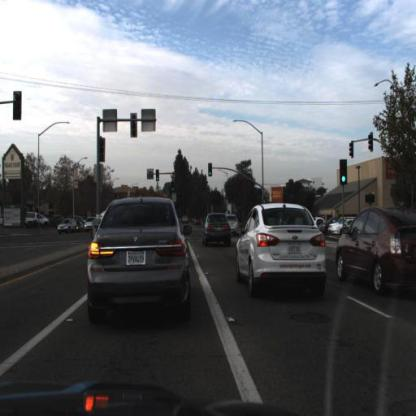car: (89, 200, 190, 315), (236, 194, 331, 295), (336, 204, 416, 296), (202, 212, 232, 252), (258, 206, 283, 238), (332, 220, 354, 238), (225, 208, 240, 234), (26, 212, 50, 228), (224, 215, 240, 238), (57, 216, 77, 232), (181, 210, 192, 227), (84, 216, 94, 233), (195, 213, 207, 227)
trafficLight: (13, 91, 22, 122), (131, 112, 141, 137), (368, 129, 377, 155), (100, 139, 108, 162), (351, 143, 359, 160)
trafficLight-Green: (341, 161, 348, 185), (209, 161, 217, 179), (171, 180, 178, 194), (158, 168, 164, 183), (210, 163, 215, 177), (265, 192, 270, 205)
